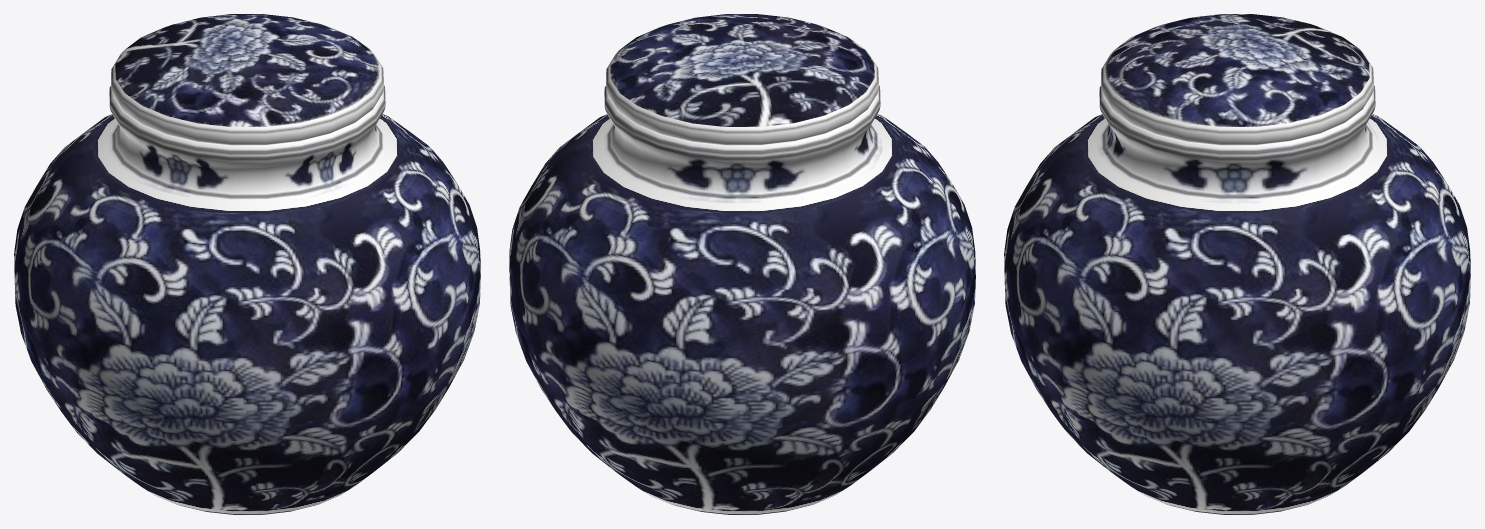
File: kucuk-porselen-kavanoz.glb
3 views of the same model, side by side, from view 1: azimuth 30°, elevation 25°; view 2: azimuth 150°, elevation 25°; view 3: azimuth 270°, elevation 25° (orthographic).
Visible parts, largest first — view 1: Jar.001; view 2: Jar.001; view 3: Jar.001.
Boxes of the visible parts, x1,y1,x2,y2 form: Jar.001: (14, 14, 480, 514); Jar.001: (509, 14, 975, 514); Jar.001: (1004, 14, 1470, 514).
Size of the model in its own units: 0.1071 by 0.1073 by 0.1071.
Materials: 1 (1 with a texture image).
